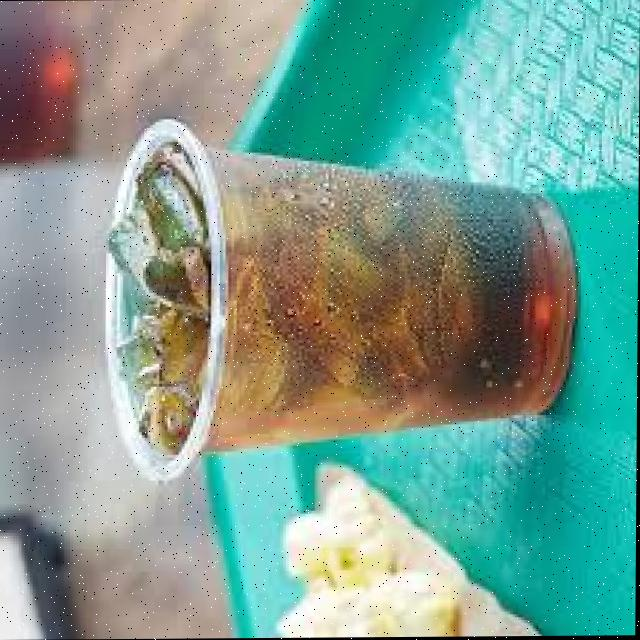cup: (79, 107, 601, 489)
